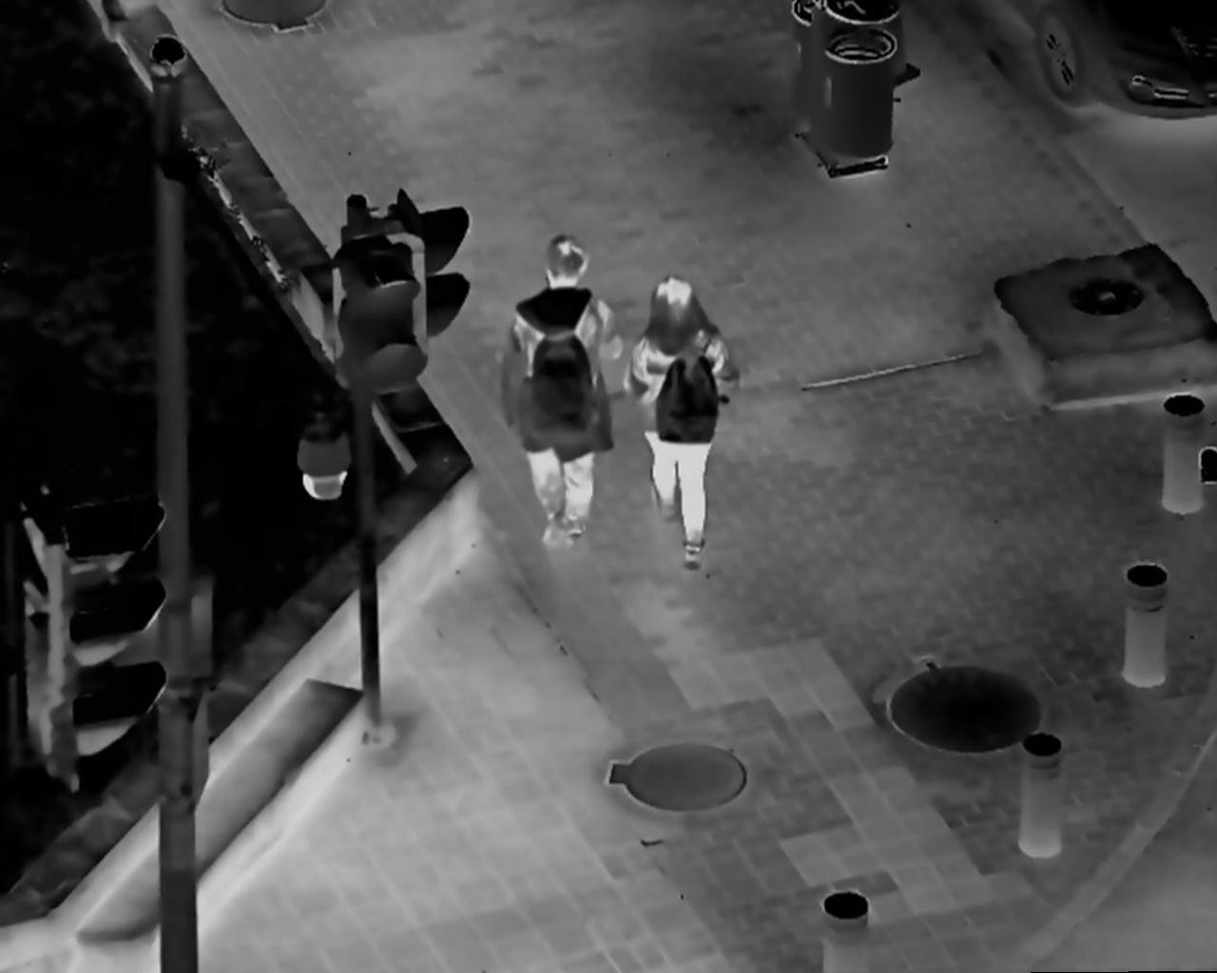person: (494, 229, 624, 550), (623, 272, 738, 579)
